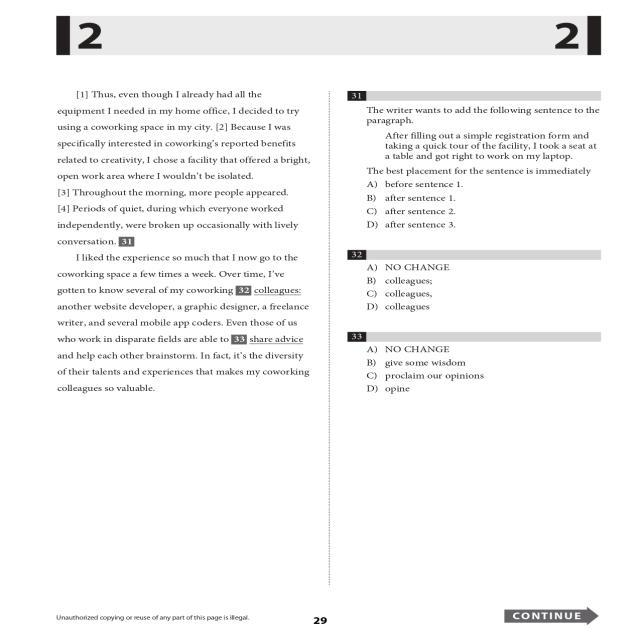Answer_Block: (336, 262, 616, 318), (336, 344, 615, 400), (336, 178, 615, 232)
Instruction: (49, 84, 319, 584)
Question_Answer_Block: (336, 86, 615, 232), (336, 246, 616, 318), (336, 328, 615, 400)
Question_Block: (336, 84, 615, 178), (336, 246, 616, 261), (335, 328, 615, 343)
Question_Paper_Area: (336, 86, 616, 586), (49, 84, 319, 584)
